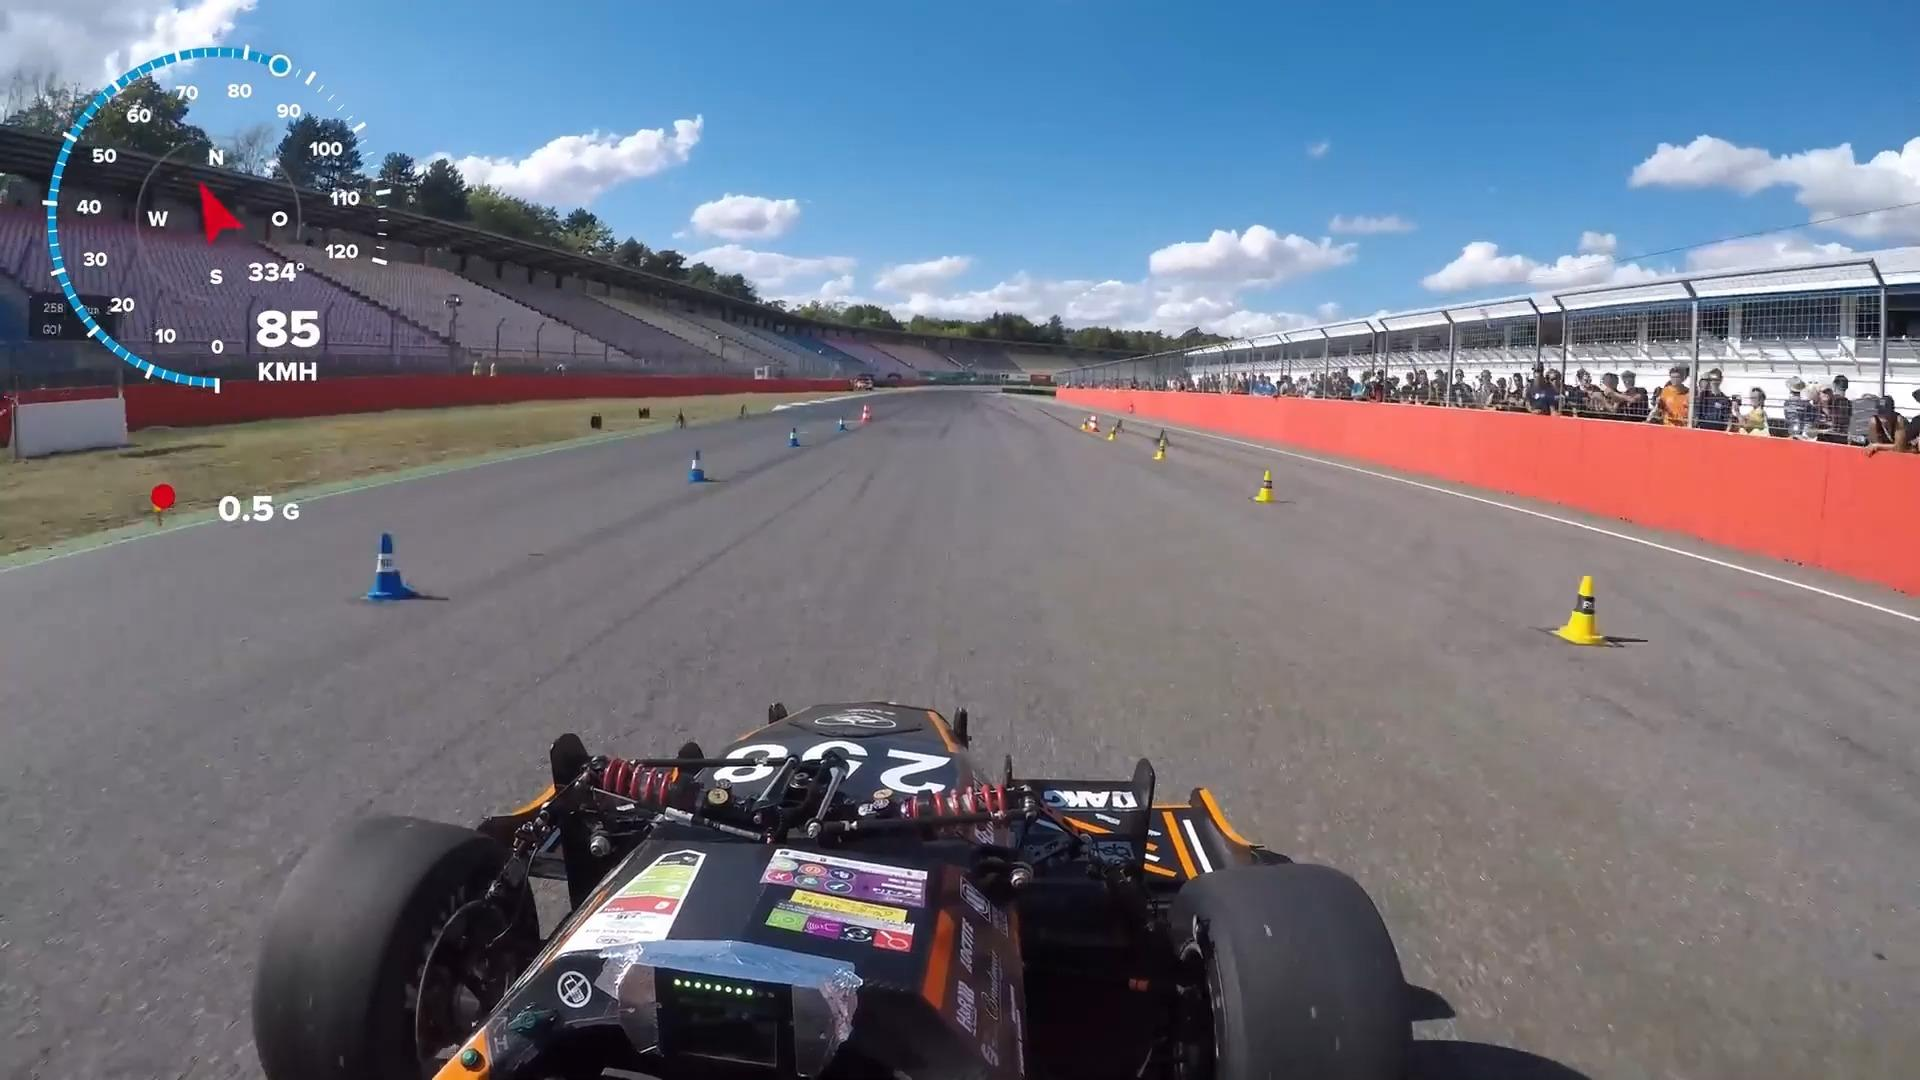blue_cone: (367, 531, 418, 601), (687, 448, 711, 483), (789, 427, 803, 448)
yellow_cone: (1551, 574, 1614, 646), (1253, 469, 1279, 504), (1154, 439, 1171, 462)
